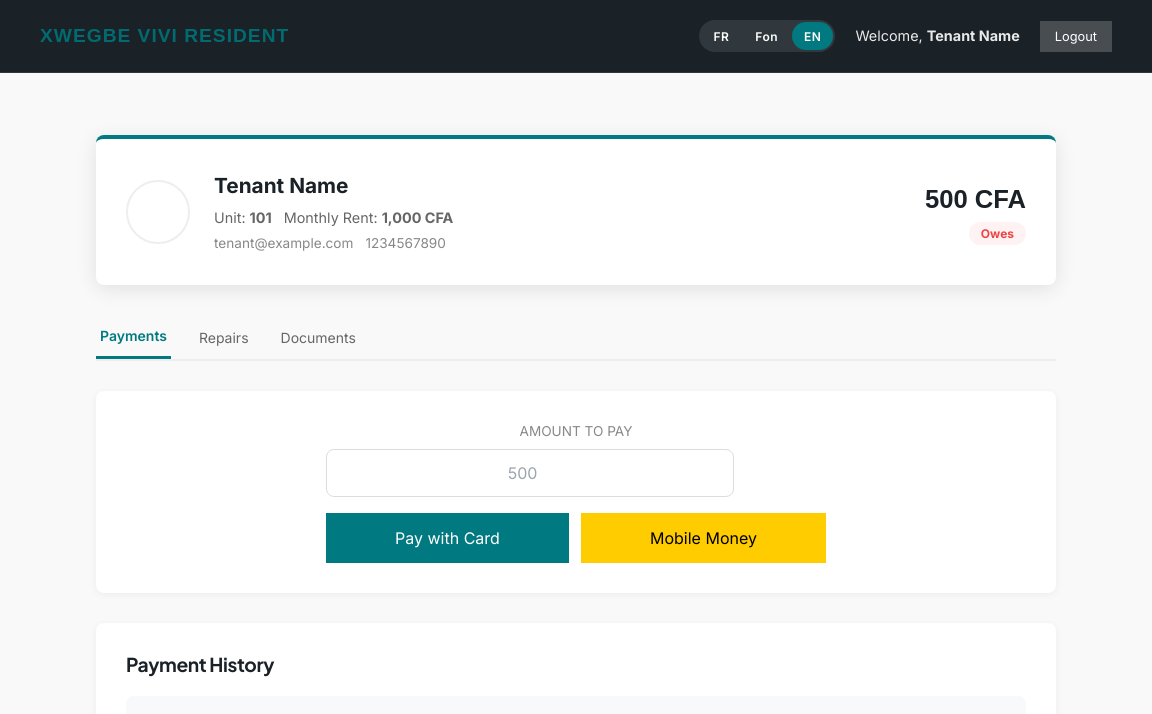
Scenario: TenantPortal › switches to Repairs tab
Click the button "Repairs" at point(224, 337), box [195, 315, 252, 359]
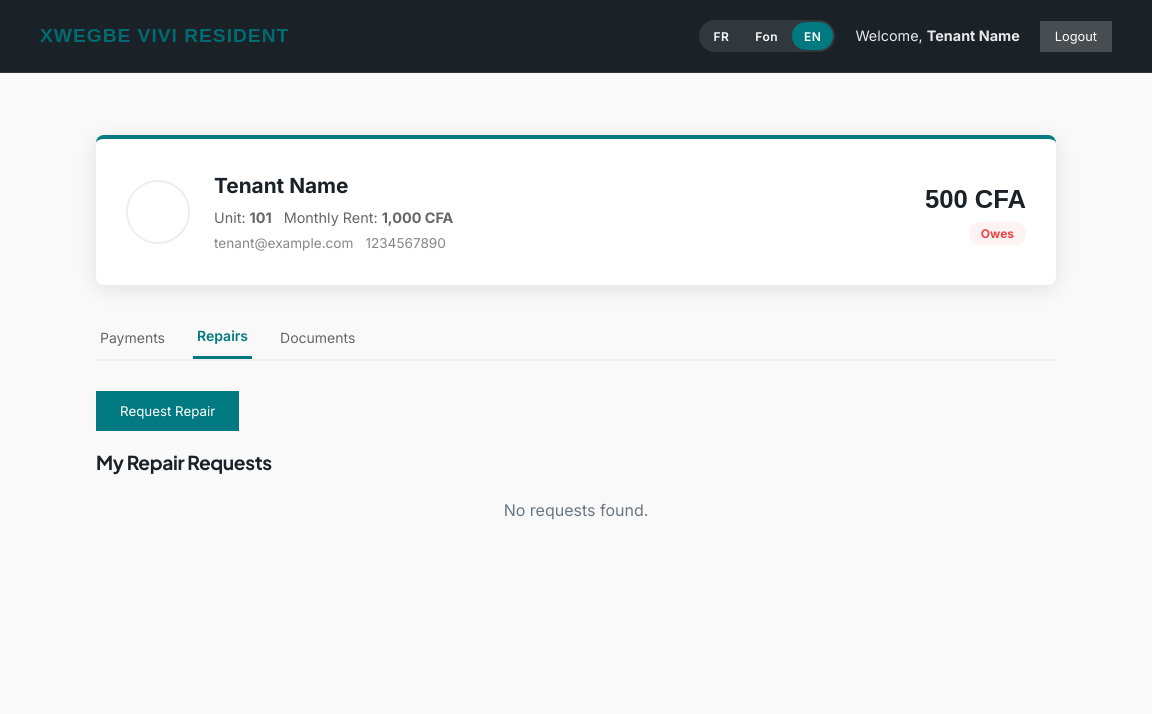
Expected: the button "Request Repair" is shown, [96, 391, 239, 431]
Expected: the heading "My Repair Requests" is shown, [96, 450, 272, 474]
